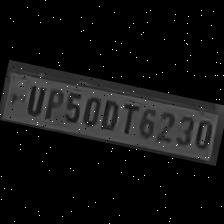0: (78, 90, 104, 127), (190, 114, 214, 150)
2: (152, 106, 179, 144)
3: (170, 109, 196, 147)
5: (57, 86, 84, 122)
6: (132, 101, 158, 139)
D: (96, 94, 122, 132)
P: (40, 82, 64, 120)
T: (115, 97, 140, 136)
U: (20, 79, 47, 116)
